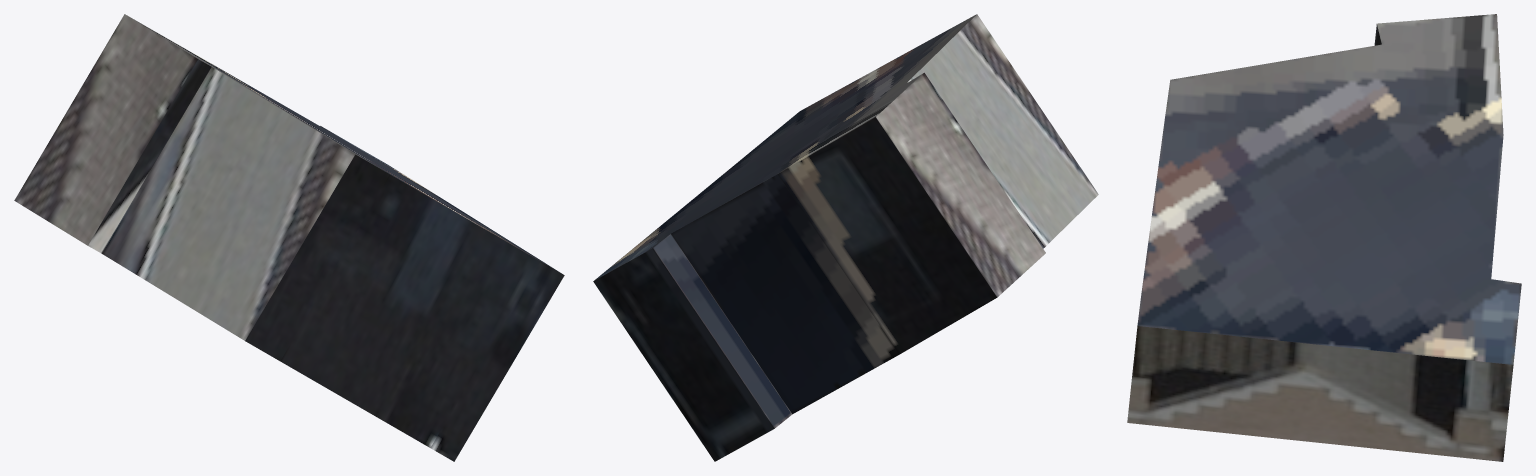
The picture shows the model from 3 angles, left to right: view 1: azimuth 30°, elevation 25°; view 2: azimuth 150°, elevation 25°; view 3: azimuth 270°, elevation 25°; orthographic projection. The views are drawn at different scales.
Visible parts, largest first — view 1: BAG_0599100010059655 (×3); view 2: BAG_0599100010059655 (×3); view 3: BAG_0599100010059655.
Boxes of the visible parts, box(x1,y1,x2,y2) form: BAG_0599100010059655 (×3): box(14, 14, 564, 461); BAG_0599100010059655 (×3): box(593, 14, 1098, 461); BAG_0599100010059655: box(1127, 14, 1521, 461).
Bounding box in the file's own units: 5.3 × 4.94 × 4.74.
Materials: 4 (4 with a texture image).
